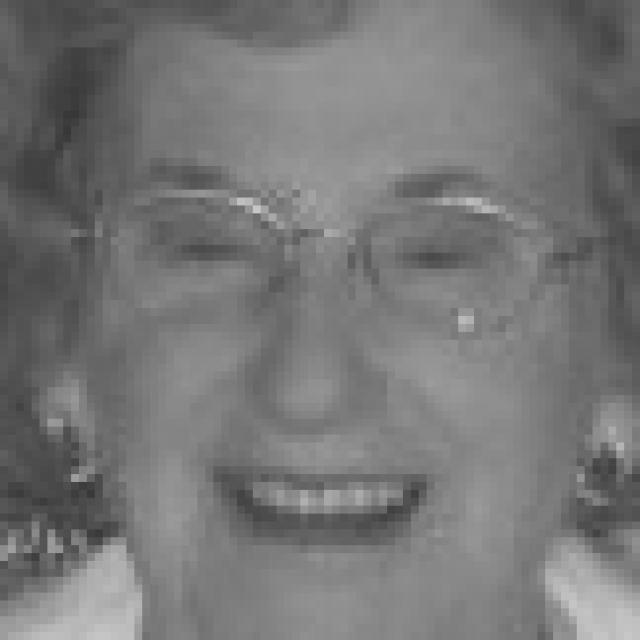real: (80, 88, 588, 610), (138, 188, 517, 334)
